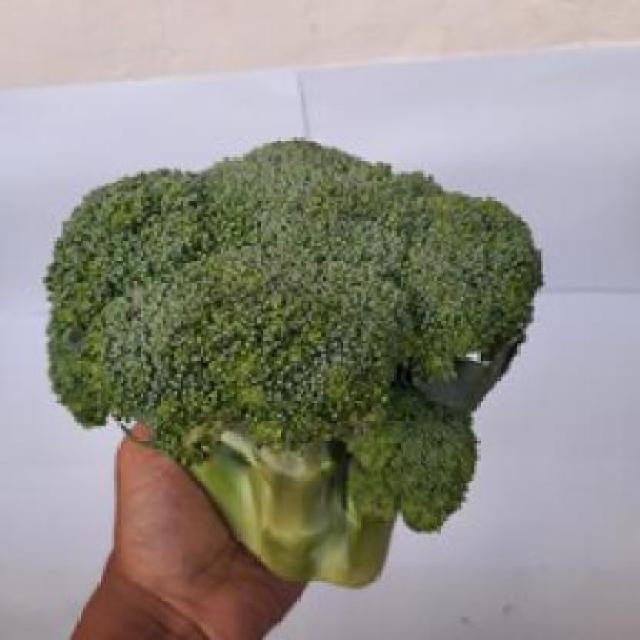broccoli: (46, 157, 543, 586)
